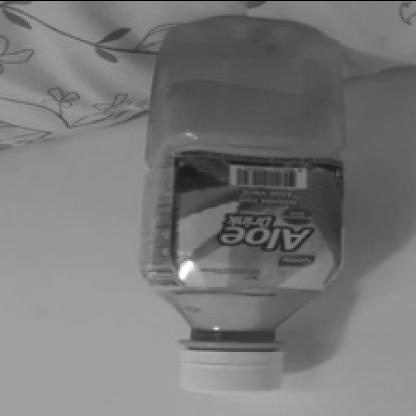plastic_bottles: (130, 14, 355, 396)
